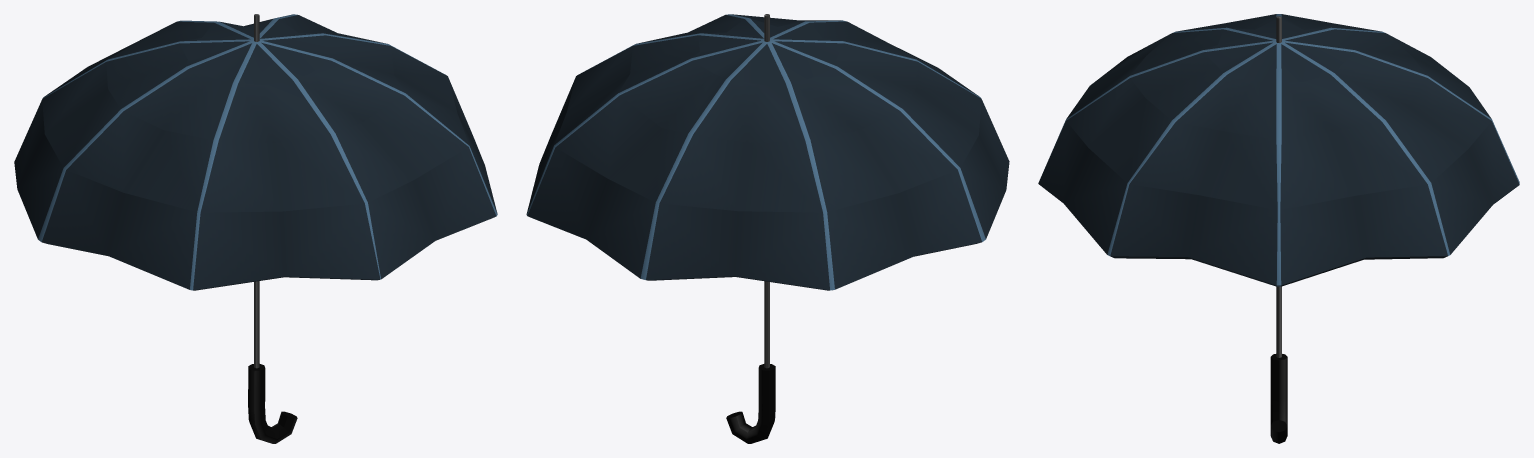
Rendered from human-household-items-umbrella_v2.glb.
3 views of the same model, side by side, from view 1: azimuth 30°, elevation 25°; view 2: azimuth 150°, elevation 25°; view 3: azimuth 270°, elevation 25° (orthographic). The views are drawn at different scales.
Parts seen in each view (by area): view 1: Umbrella_v2; view 2: Umbrella_v2; view 3: Umbrella_v2.
Part boxes in pixels (x1,y1,x2,y2): Umbrella_v2: [14, 14, 497, 443]; Umbrella_v2: [526, 14, 1009, 443]; Umbrella_v2: [1038, 14, 1519, 443].
Bounding box in the file's own units: 1 × 0.9564 × 1.
